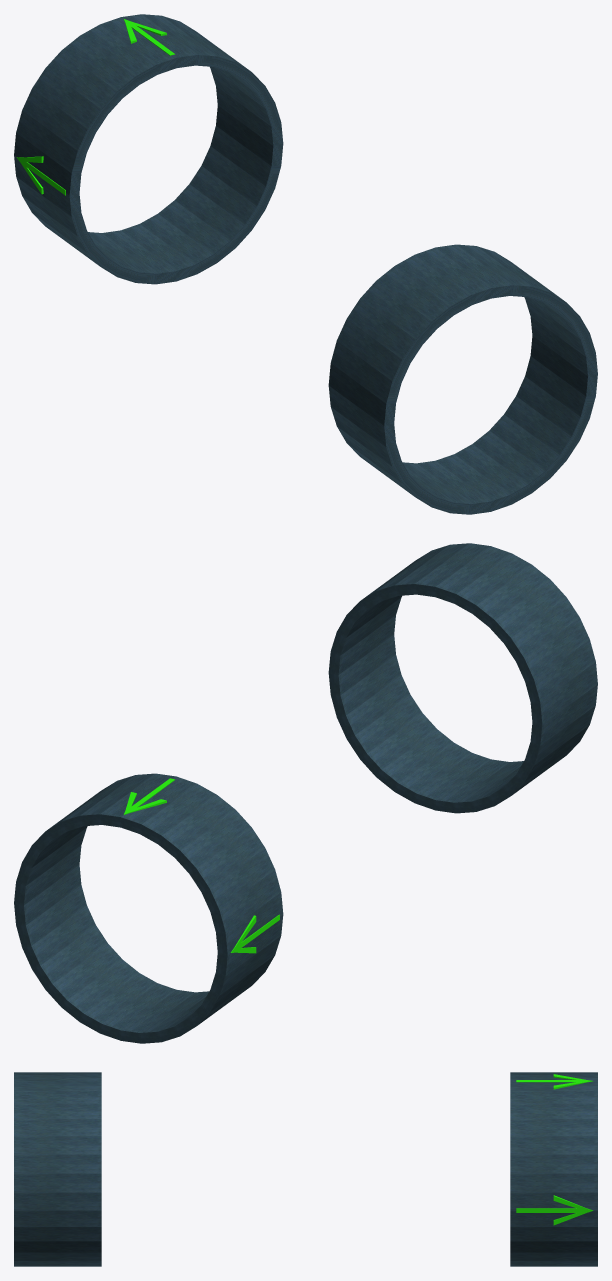
Rendered from Small Dark Energy Pipe.obj.
3 views of the same model, one above another, from view 1: azimuth 30°, elevation 25°; view 2: azimuth 150°, elevation 25°; view 3: azimuth 270°, elevation 25° (orthographic). The views are drawn at different scales.
Parts seen in each view (by area): view 1: Cylinder.005; view 2: Cylinder.005; view 3: Cylinder.005.
Boxes of the visible parts, x1,y1,x2,y2 form: Cylinder.005: (14,14,597,514); Cylinder.005: (14,543,597,1043); Cylinder.005: (14,1072,597,1266).
Size of the model in its own units: 0.3346 by 0.3346 by 1.
